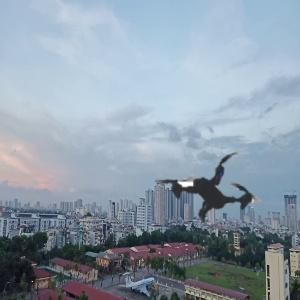drone: (125, 104, 292, 271)
